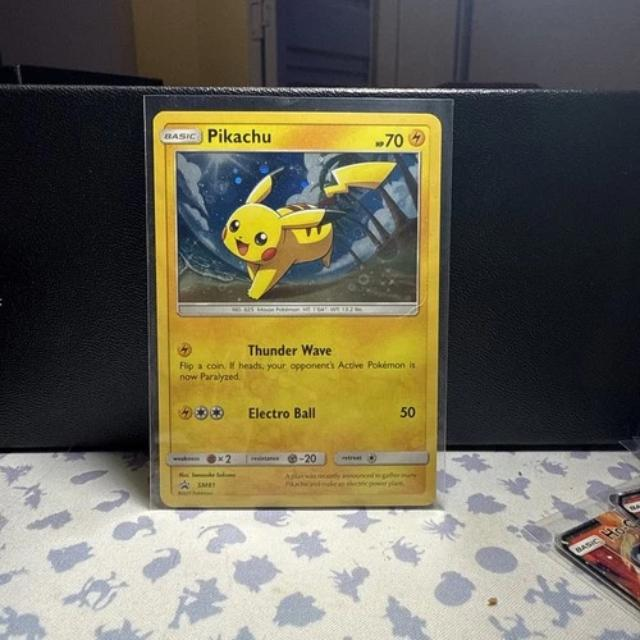Card: (146, 105, 447, 509)
Name: (200, 120, 276, 146)
